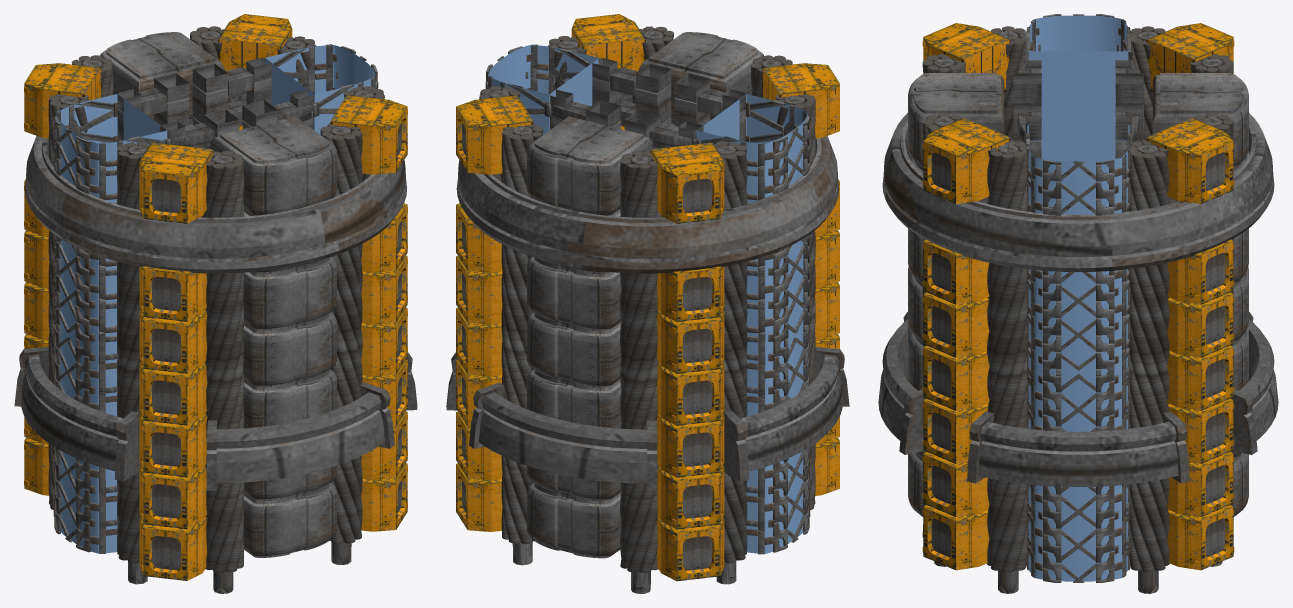
The model's file is static2.fbx.
3 renders of one model, left to right at view 1: azimuth 30°, elevation 25°; view 2: azimuth 150°, elevation 25°; view 3: azimuth 270°, elevation 25°, orthographic. The views are drawn at different scales.
Visible parts, largest first — view 1: Cube_105, Cube_068, Cylinder011_004, Cylinder011_003, Cube_022, Cylinder_004, Cylinder_005_remesh, Cylinder_006_remesh, Cube_022_2, Cube_022_5, Cube_022_6, Cylinder_011_remesh (+7 smaller); view 2: Cube_105, Cube_068, Cylinder011_004, Cylinder011_003, Cube_022, Cylinder_004, Cylinder_007_remesh, Cylinder_008_remesh, Cylinder_012_remesh, Cube_022_6, Cube_022_2, Cube_022_5 (+7 smaller); view 3: Cylinder_004, Cube_068, Cylinder011_004, Cylinder011_003, Cube_105, Cube_022, Cylinder_009_remesh, Cylinder_010_remesh, Cube_022_5, Cube_022_6, Cube_022_2, Cube_022_7 (+8 smaller).
Part boxes in pixels (x1,y1,x2,y2): Cube_105: (100, 32, 336, 557); Cube_068: (53, 44, 378, 553); Cylinder011_004: (25, 91, 406, 273); Cylinder011_003: (14, 346, 417, 491); Cube_022: (24, 14, 407, 223); Cylinder_004: (56, 45, 375, 553); Cylinder_005_remesh: (202, 151, 244, 593); Cylinder_006_remesh: (320, 123, 362, 564); Cube_022_2: (24, 437, 407, 580); Cube_022_5: (24, 282, 407, 425); Cube_022_6: (24, 230, 407, 373); Cylinder_011_remesh: (116, 141, 149, 584); Cube_105: (527, 32, 763, 558); Cube_068: (485, 44, 810, 554); Cylinder011_004: (456, 92, 839, 273); Cylinder011_003: (446, 347, 849, 491); Cube_022: (456, 14, 839, 223); Cylinder_004: (488, 45, 807, 553); Cylinder_007_remesh: (620, 151, 661, 593); Cylinder_008_remesh: (501, 123, 543, 565); Cylinder_012_remesh: (714, 141, 747, 584); Cube_022_6: (456, 230, 839, 373); Cube_022_2: (456, 437, 839, 581); Cube_022_5: (456, 282, 839, 425); Cylinder_004: (1027, 15, 1129, 581); Cube_068: (1013, 14, 1143, 582); Cylinder011_004: (882, 113, 1274, 271); Cylinder011_003: (878, 312, 1278, 486); Cube_105: (908, 73, 1248, 516); Cube_022: (922, 23, 1234, 204); Cylinder_009_remesh: (986, 140, 1027, 593); Cylinder_010_remesh: (1126, 140, 1169, 593); Cube_022_5: (922, 345, 1234, 410); Cube_022_6: (922, 292, 1234, 357); Cube_022_2: (922, 504, 1234, 570); Cube_022_7: (922, 239, 1234, 304).
Size of the model in its own units: 1980 by 2426 by 1980.
Materials: 3 (3 with a texture image).
